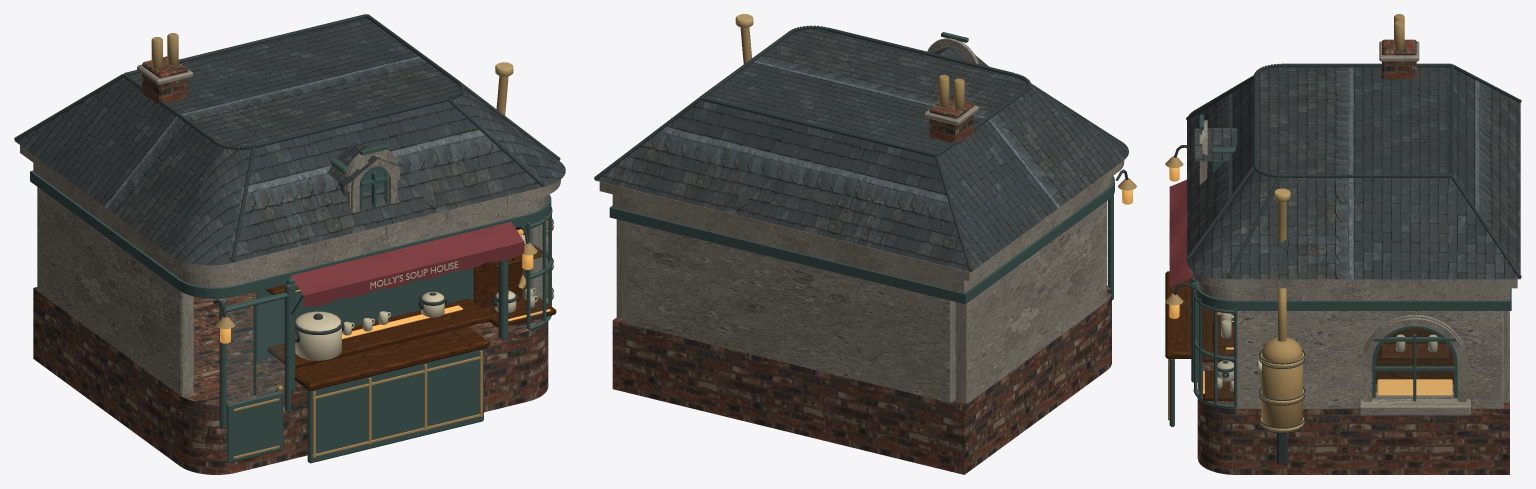
Rendered from soup-house-v1.glb.
3 views of the same model, side by side, from view 1: azimuth 30°, elevation 25°; view 2: azimuth 150°, elevation 25°; view 3: azimuth 270°, elevation 25° (orthographic). The views are drawn at different scales.
Parts seen in each view (by area): view 1: Soup_Roof_Real slate roof, Soup_Structure_Oxidised green joinery, Soup_Structure_Limestone trim, Soup_Structure_Warm weathered brick, Soup_Structure_Walnut end grain, Soup_Structure_Muted oxblood awning, Soup_Structure_Recessed blue green glass, Soup_Roof_Blackened cast iron, Soup_Structure_Cream enamel, Soup_Structure_Aged satin brass, Soup_Roof_Limestone trim, Soup_Roof_Warm weathered brick (+5 smaller); view 2: Soup_Roof_Real slate roof, Soup_Structure_Limestone trim, Soup_Structure_Warm weathered brick, Soup_Structure_Oxidised green joinery, Soup_Roof_Blackened cast iron, Soup_Roof_Warm weathered brick, Side plaster wall.001, Soup_Roof_Limestone trim, Soup_Roof_Aged satin brass; view 3: Soup_Roof_Real slate roof, Soup_Structure_Warm weathered brick, Side plaster wall.001, Soup_Structure_Limestone trim, Soup_Structure_Oxidised green joinery, Soup_Structure_Recessed blue green glass, Soup_Structure_Walnut end grain, Soup_Structure_Aged satin brass, Soup_Roof_Blackened cast iron, Soup_Structure_Muted oxblood awning, Soup_Structure_Selective lit panes, Soup_Structure_Blackened cast iron (+6 smaller).
Boxes of the visible parts, left/top/right/bottom form: Soup_Roof_Real slate roof: left=15, top=18, right=565, bottom=265; Soup_Structure_Oxidised green joinery: left=30, top=170, right=552, bottom=463; Soup_Structure_Limestone trim: left=20, top=145, right=560, bottom=395; Soup_Structure_Warm weathered brick: left=33, top=287, right=548, bottom=474; Soup_Structure_Walnut end grain: left=265, top=245, right=556, bottom=391; Soup_Structure_Muted oxblood awning: left=291, top=222, right=524, bottom=306; Soup_Structure_Recessed blue green glass: left=226, top=219, right=548, bottom=403; Soup_Roof_Blackened cast iron: left=14, top=14, right=560, bottom=261; Soup_Structure_Cream enamel: left=295, top=235, right=547, bottom=360; Soup_Structure_Aged satin brass: left=216, top=76, right=548, bottom=458; Soup_Roof_Limestone trim: left=137, top=64, right=399, bottom=212; Soup_Roof_Warm weathered brick: left=142, top=56, right=187, bottom=105; Soup_Roof_Real slate roof: left=595, top=29, right=1128, bottom=271; Soup_Structure_Limestone trim: left=599, top=160, right=1124, bottom=403; Soup_Structure_Warm weathered brick: left=612, top=286, right=1111, bottom=474; Soup_Structure_Oxidised green joinery: left=609, top=176, right=1114, bottom=304; Soup_Roof_Blackened cast iron: left=594, top=25, right=1091, bottom=271; Soup_Roof_Warm weathered brick: left=929, top=97, right=973, bottom=144; Side plaster wall.001: left=616, top=219, right=626, bottom=320; Soup_Roof_Limestone trim: left=924, top=38, right=978, bottom=125; Soup_Roof_Aged satin brass: left=938, top=74, right=964, bottom=109; Soup_Roof_Real slate roof: left=1187, top=67, right=1520, bottom=279; Soup_Structure_Warm weathered brick: left=1197, top=359, right=1509, bottom=474; Side plaster wall.001: left=1234, top=299, right=1503, bottom=408; Soup_Structure_Limestone trim: left=1190, top=268, right=1517, bottom=415; Soup_Structure_Oxidised green joinery: left=1169, top=277, right=1511, bottom=426; Soup_Structure_Recessed blue green glass: left=1197, top=303, right=1453, bottom=402; Soup_Structure_Walnut end grain: left=1165, top=271, right=1453, bottom=400; Soup_Structure_Aged satin brass: left=1165, top=156, right=1302, bottom=432; Soup_Roof_Blackened cast iron: left=1186, top=63, right=1521, bottom=278; Soup_Structure_Muted oxblood awning: left=1169, top=179, right=1192, bottom=286; Soup_Structure_Selective lit panes: left=1169, top=167, right=1452, bottom=395; Soup_Structure_Blackened cast iron: left=1169, top=145, right=1305, bottom=464.
Bounding box in the file's own units: 6.76 × 5.5 × 5.48.
13 materials, 4 textured.
